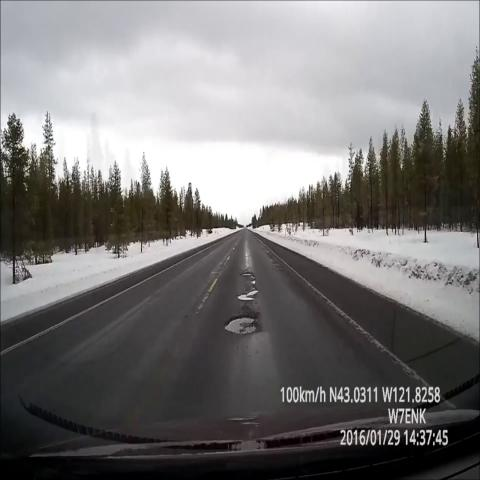pothole: (225, 306, 261, 344), (235, 272, 259, 303)
